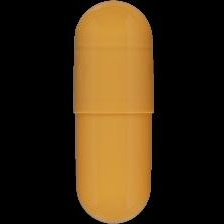0615-7591: (0, 0, 224, 224)
